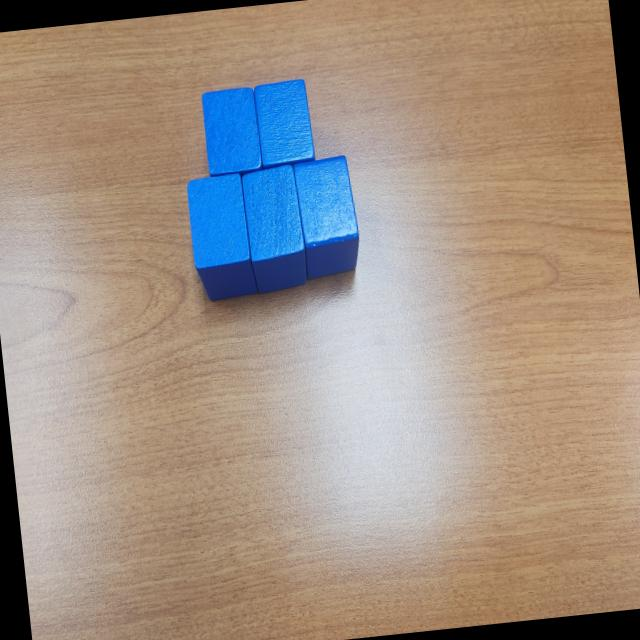blue: (184, 172, 258, 304), (238, 162, 310, 295), (292, 154, 363, 279), (200, 85, 266, 177), (251, 79, 316, 169)
